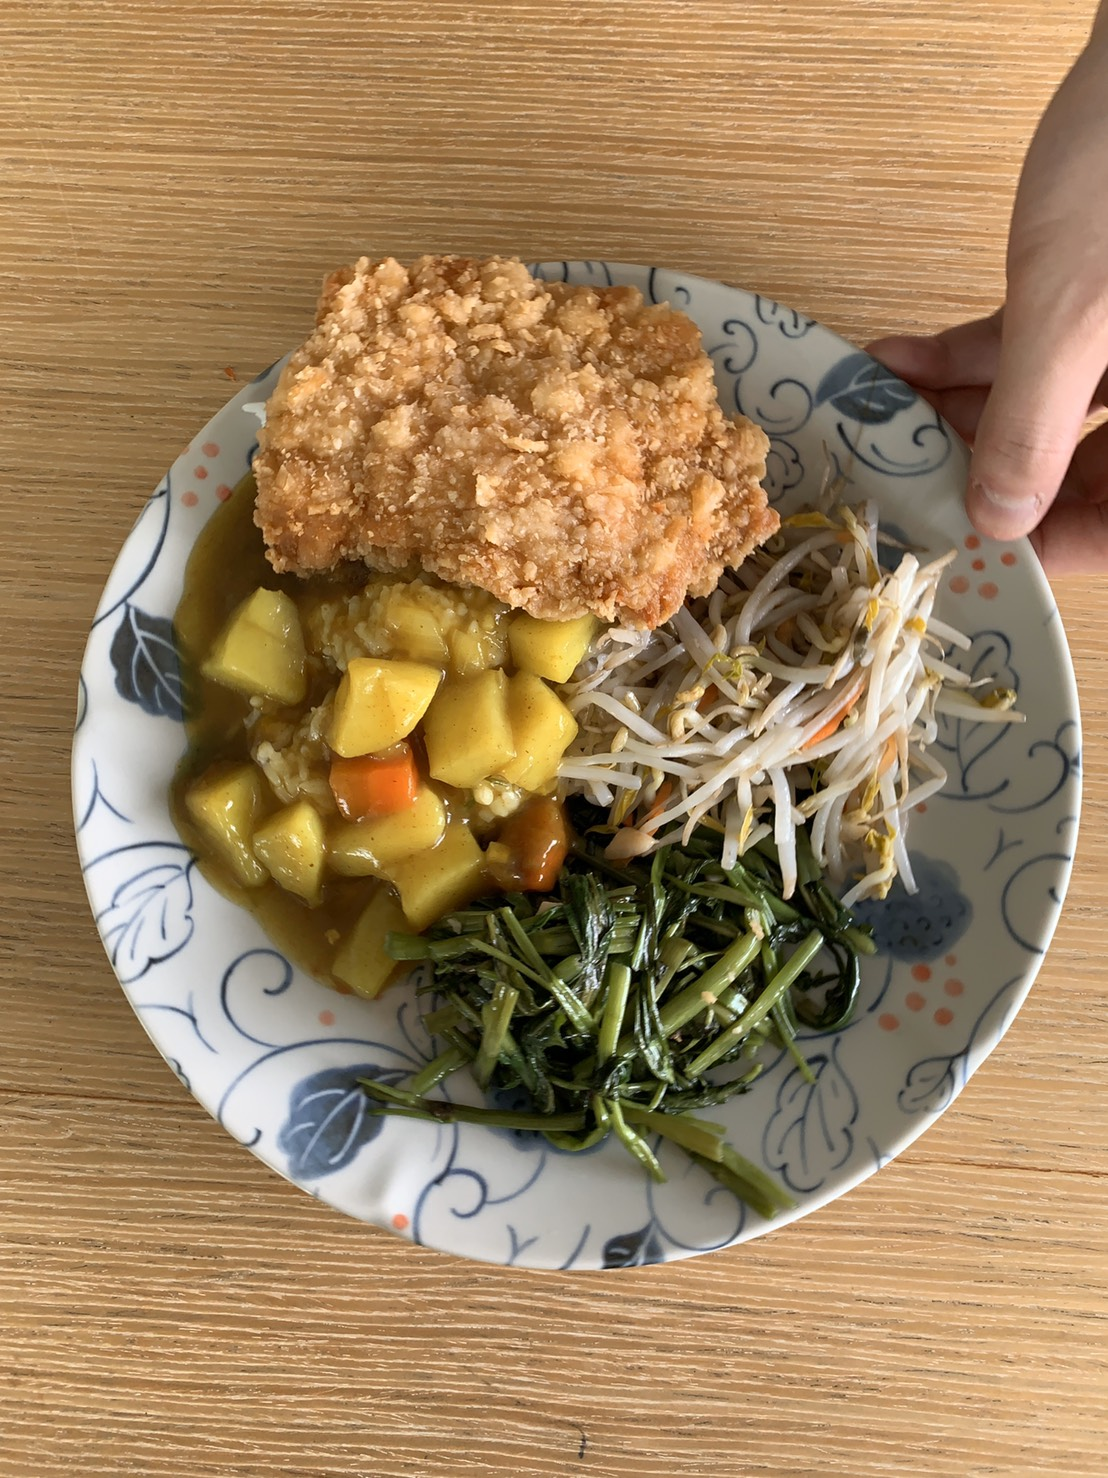curry: (219, 638, 530, 871)
fried_chicken: (308, 286, 709, 590)
mung_bean_sprouts: (690, 621, 907, 834)
water_spinach: (504, 915, 767, 1099)
